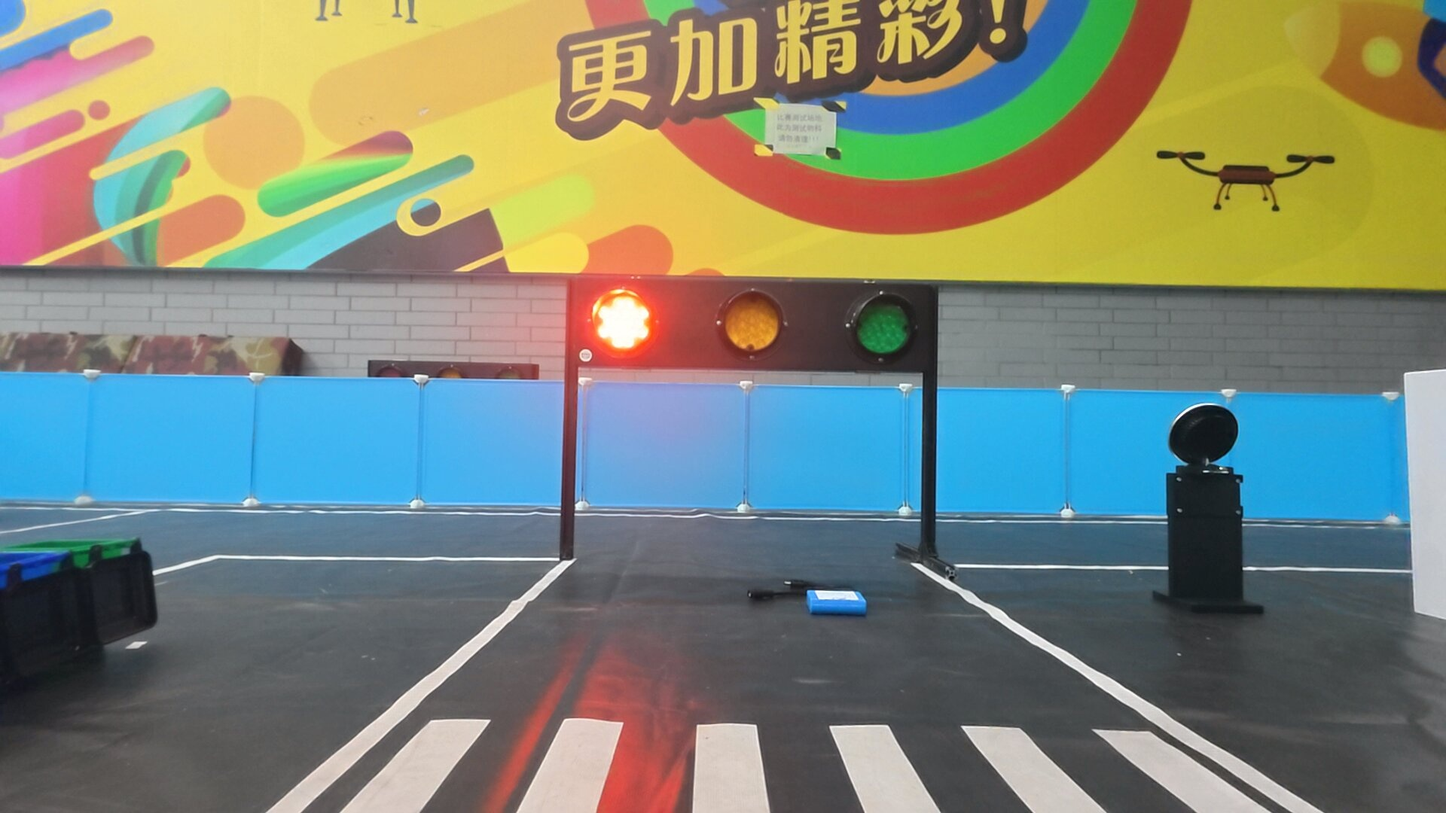stop: (587, 285, 658, 355)
